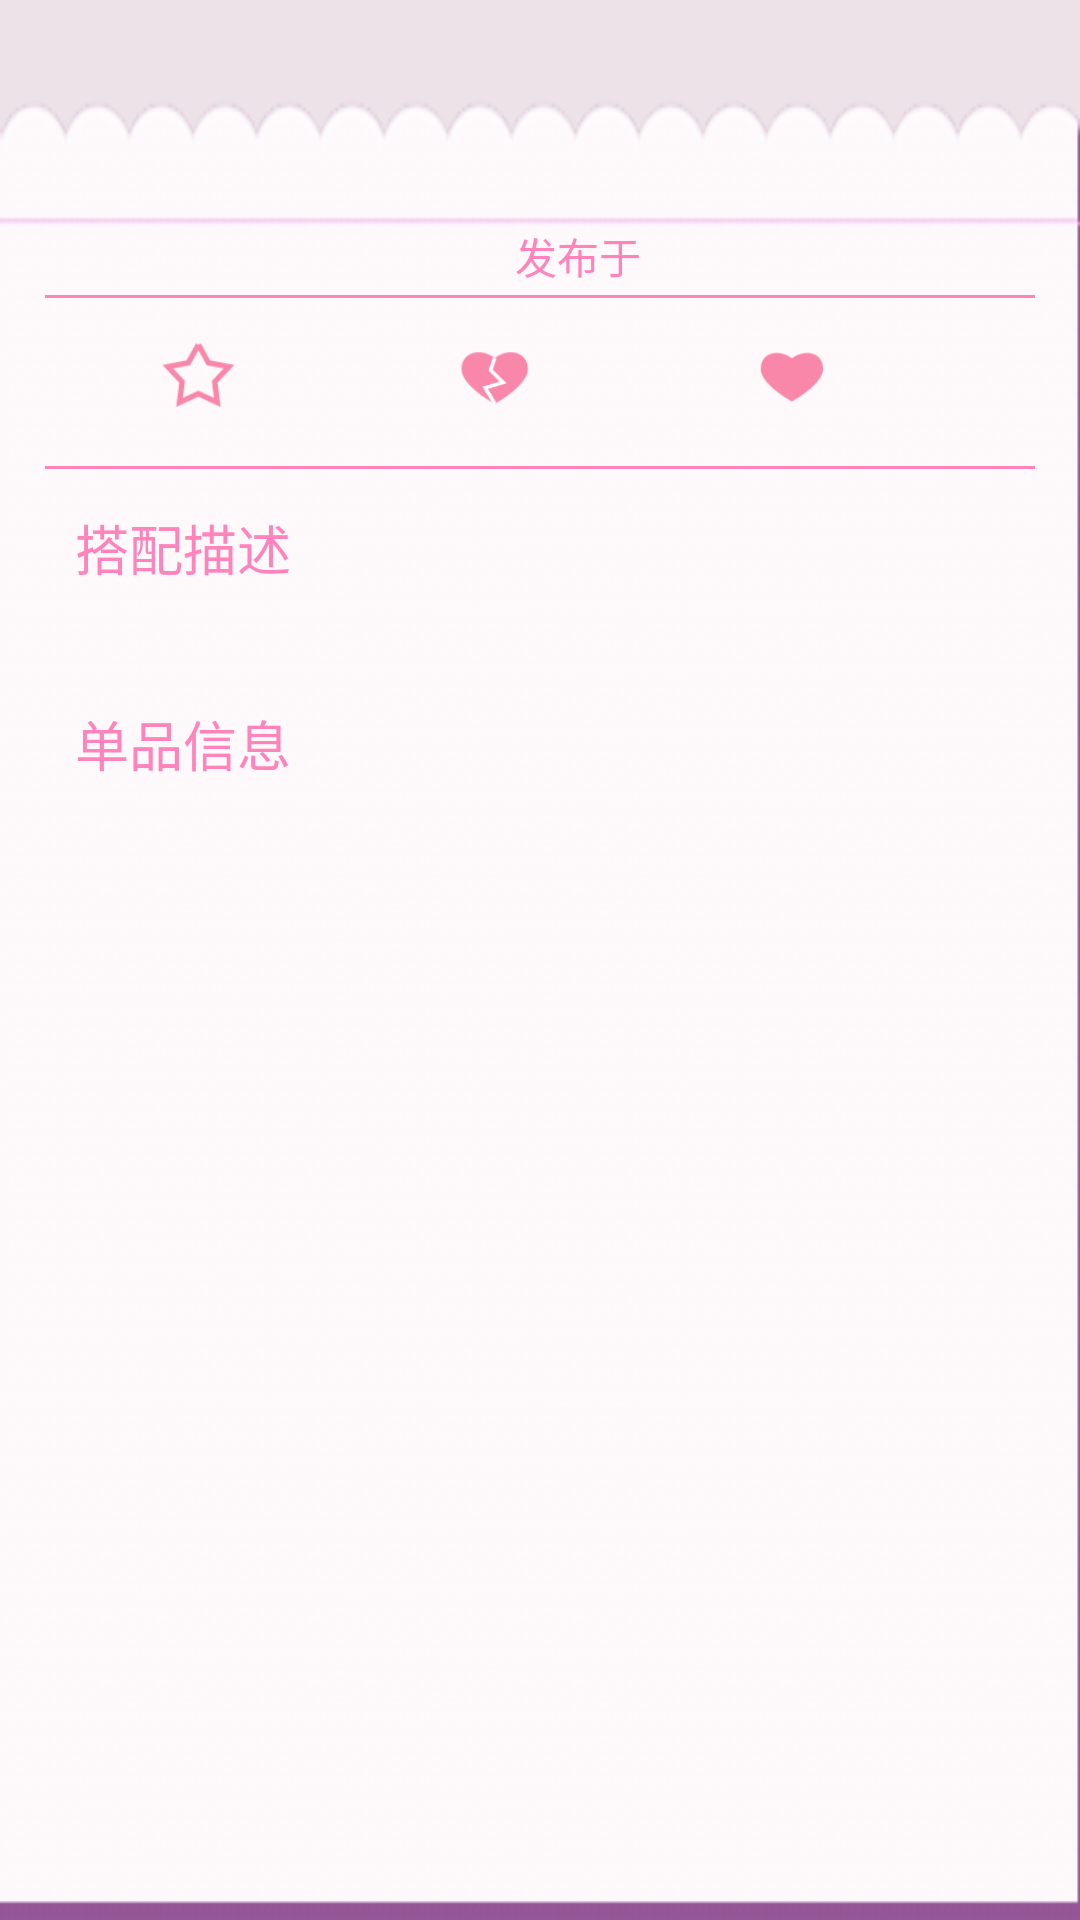

Icon click points for this 1080x1920 phone screenshot, format [x,y]:
add false: [198,375]
down true: [494,377]
up true: [791,377]
